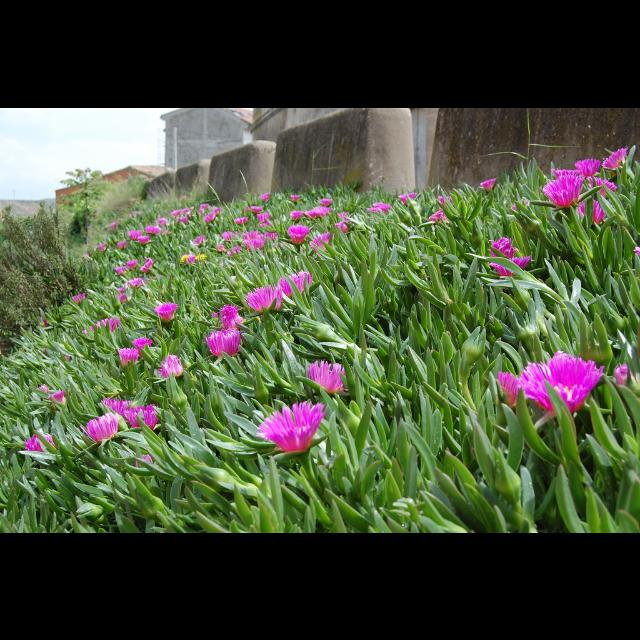Flower: (180, 192, 350, 264), (80, 200, 222, 256), (510, 352, 612, 422), (540, 146, 628, 224), (255, 401, 331, 453), (306, 358, 348, 394), (242, 280, 284, 312), (496, 371, 530, 407), (78, 412, 116, 442), (204, 328, 242, 356), (486, 255, 532, 278), (276, 268, 312, 296), (122, 405, 160, 431), (613, 362, 639, 393), (210, 302, 243, 326), (156, 350, 184, 378), (486, 235, 518, 258), (26, 434, 56, 452), (155, 300, 179, 322), (102, 398, 128, 418), (118, 346, 136, 370), (132, 336, 152, 356), (427, 209, 448, 225), (49, 389, 66, 408), (81, 319, 101, 335), (101, 317, 119, 333), (122, 276, 142, 290), (110, 286, 126, 302), (396, 191, 414, 205), (478, 178, 496, 192), (135, 454, 155, 466), (437, 193, 451, 210), (71, 290, 85, 306), (140, 257, 154, 273), (509, 199, 526, 209), (116, 264, 125, 276), (37, 382, 47, 392), (40, 316, 50, 326), (380, 204, 390, 214), (126, 257, 138, 265), (366, 205, 378, 213), (633, 244, 639, 256), (372, 200, 383, 206)
